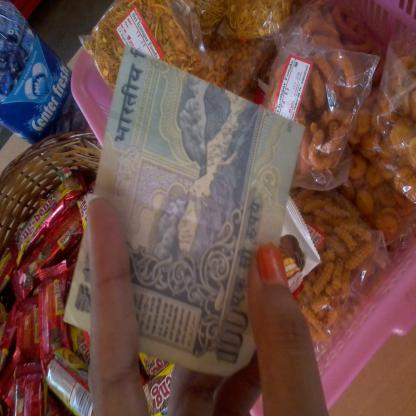Old100Back: (62, 43, 306, 380)
